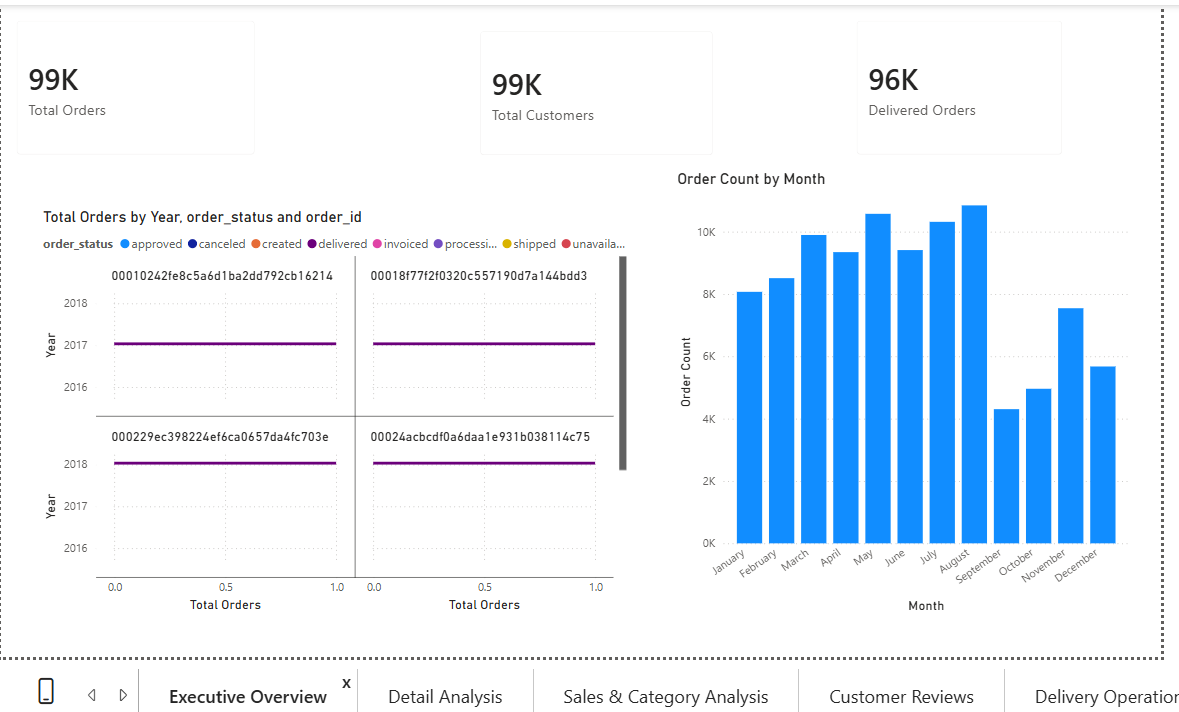

The dashboard page shown, as its layout file describes it:
{"tool":"powerbi","page":{"name":"Page 1","canvas":[1280,720],"ordinal":0},"visuals":[{"type":"cardVisual","fields":{"Data":["Calendar.Total Orders"]},"box":[0,0,297.3,182.5],"z":0},{"type":"cardVisual","fields":{"Data":["Calendar.Total Customers"]},"box":[511.8,11.3,291.6,171.2],"z":1000},{"type":"cardVisual","fields":{"Data":["Calendar.Delivered Orders"]},"box":[927.6,0,261.5,182.5],"z":2000},{"type":"clusteredBarChart","fields":{"Category":["Calendar.Date.Variation.Date Hierarchy.Year","Calendar.Date.Variation.Date Hierarchy.Quarter","Calendar.Date.Variation.Date Hierarchy.Month","Calendar.Date.Variation.Date Hierarchy.Day"],"Y":["Calendar.Total Orders"],"Series":["cleaned_olist_orders_dataset.order_status"],"Rows":["cleaned_olist_orders_dataset.order_id"]},"box":[39.5,182.5,654.7,451.5],"z":3000},{"type":"clusteredColumnChart","fields":{"Category":["Calendar.Date.Variation.Date Hierarchy.Month"],"Y":["Calendar.Order Count"]},"box":[741.3,182.5,508,492.9],"z":4000}]}

Visuals, with their boxes on the page's 1280x720 design canvas (x1, y1, x2, y2). These are canvas units, not pixel positions in the 1179x712 screenshot, which may show the page scaled, cropped or inside an application window:
cardVisual - Calendar.Total Orders: {"left": 0, "top": 0, "right": 297, "bottom": 182}
cardVisual - Calendar.Total Customers: {"left": 512, "top": 11, "right": 803, "bottom": 182}
cardVisual - Calendar.Delivered Orders: {"left": 928, "top": 0, "right": 1189, "bottom": 182}
clusteredBarChart - Calendar.Date.Variation.Date Hierarchy.Year x Calendar.Date.Variation.Date Hierarchy.Quarter: {"left": 40, "top": 182, "right": 694, "bottom": 634}
clusteredColumnChart - Calendar.Date.Variation.Date Hierarchy.Month x Calendar.Order Count: {"left": 741, "top": 182, "right": 1249, "bottom": 675}
